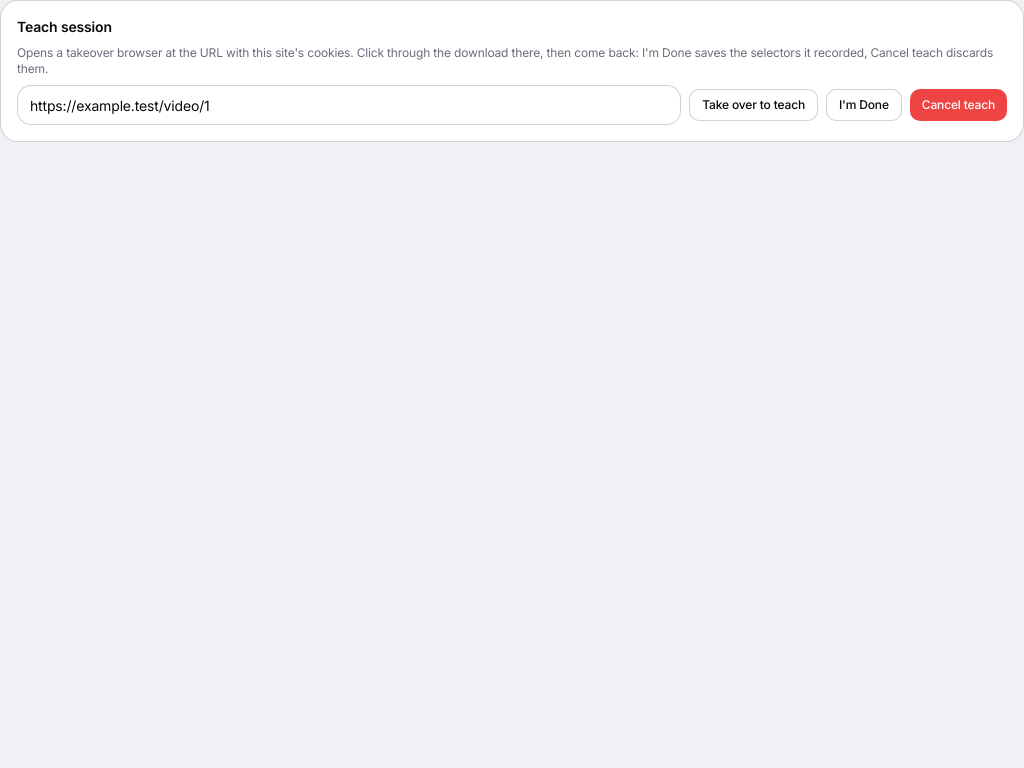
Test: TeachSessionCard › backing out of the confirm sends nothing
The image size is (1024, 768).
Click the button "Take over to teach" at (754, 105), box top-left (689, 89), bottom-right (818, 121)
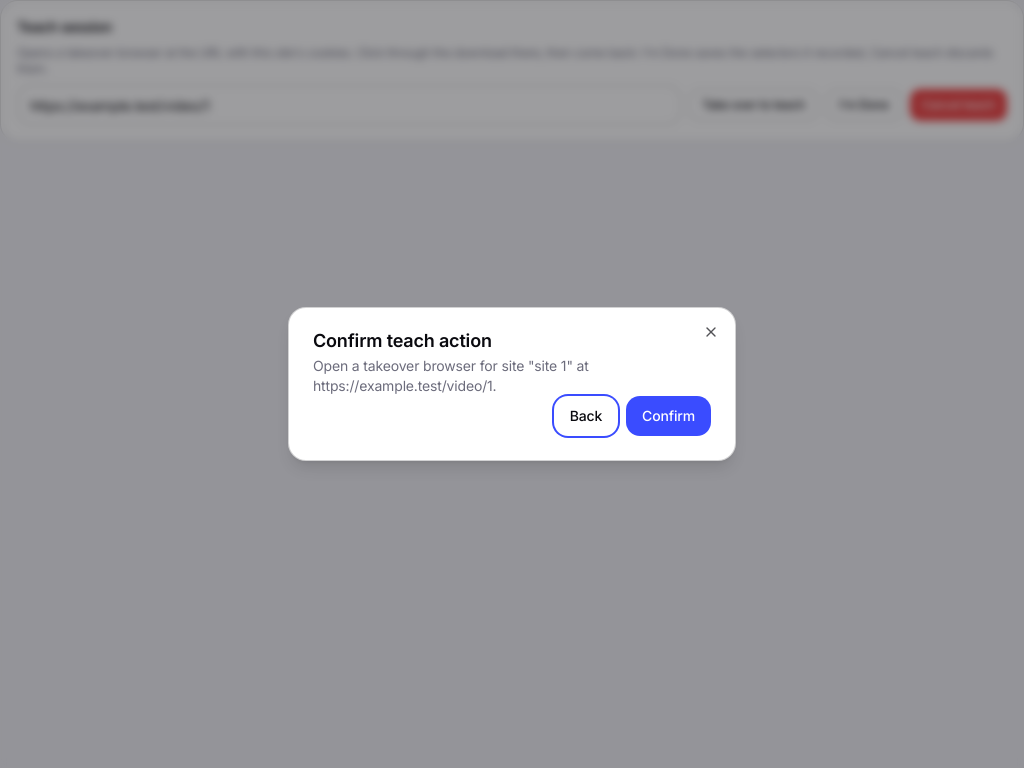
Click the button "Back" at (586, 416), box top-left (554, 396), bottom-right (618, 436)
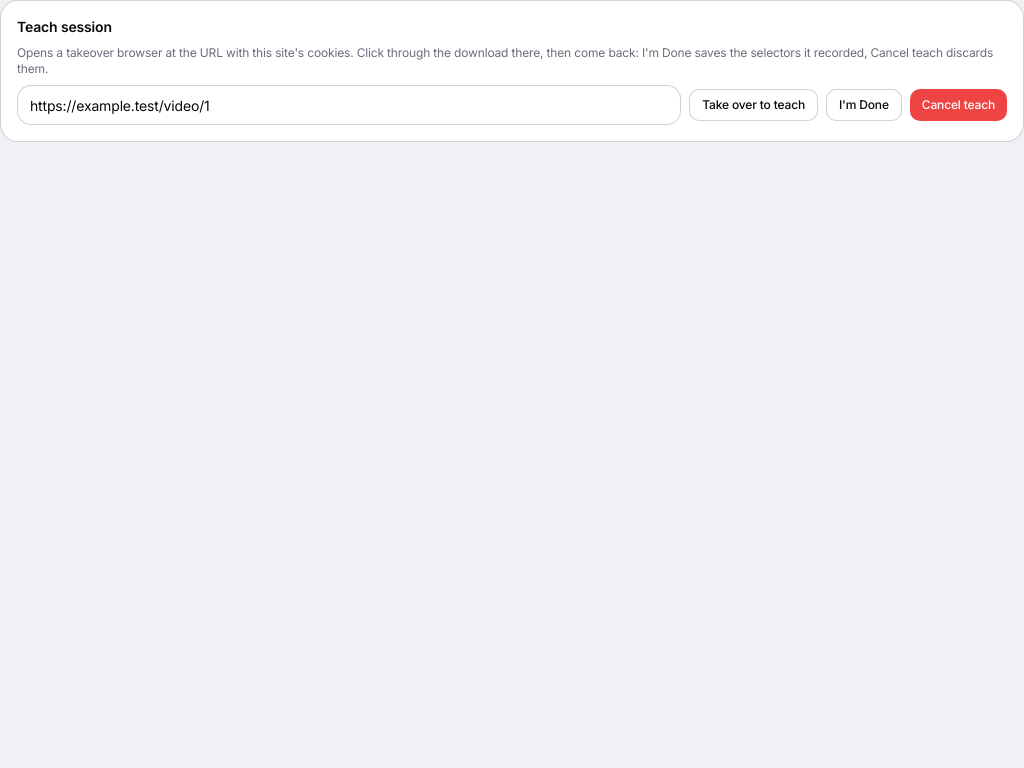
Now the dialog is gone
